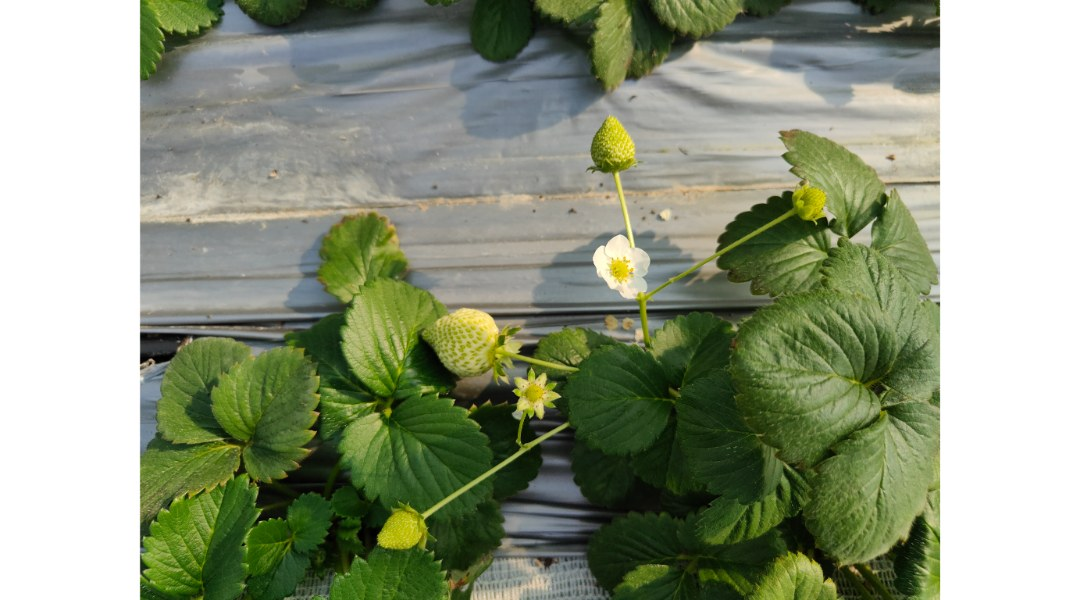berry: (421, 305, 510, 388), (581, 108, 641, 174), (377, 499, 433, 556), (510, 367, 564, 414), (785, 177, 833, 228)
strain: (421, 424, 571, 521), (660, 210, 800, 291), (596, 232, 650, 302), (612, 178, 637, 246), (638, 303, 655, 358)
